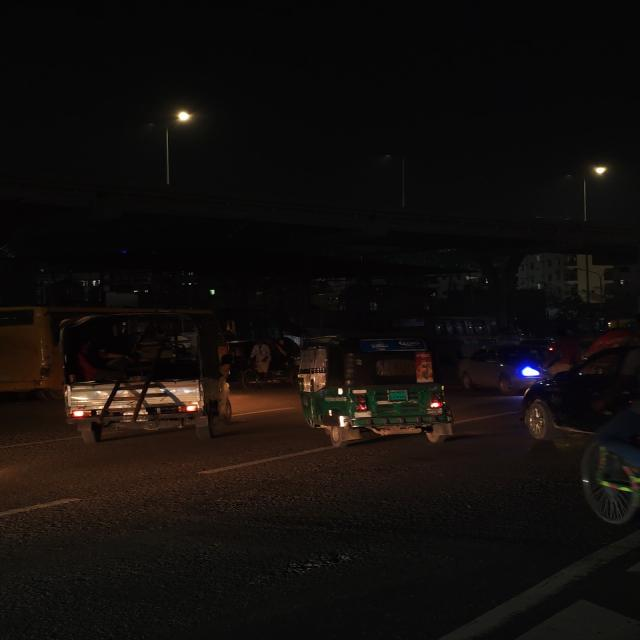car: (520, 338, 637, 449), (454, 339, 560, 395)
cng: (294, 334, 456, 446)
pickup_van: (66, 311, 234, 447)
